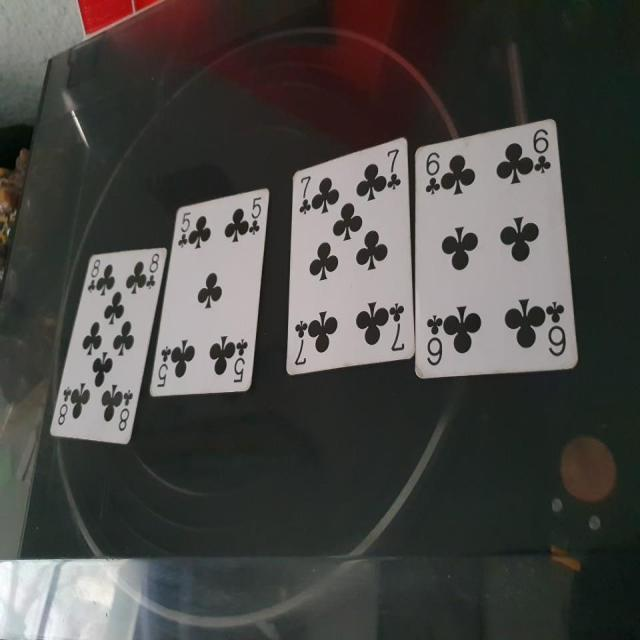5 of clubs: (150, 180, 271, 397)
6 of clubs: (414, 114, 581, 378)
7 of clubs: (284, 138, 418, 374)
8 of clubs: (47, 247, 168, 446)
